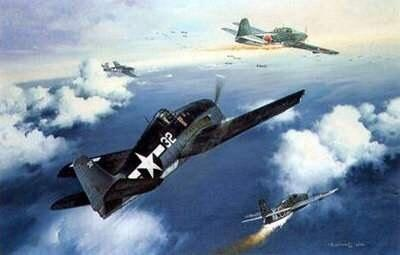airplane: (44, 83, 308, 207), (221, 17, 342, 57), (240, 181, 339, 228)
